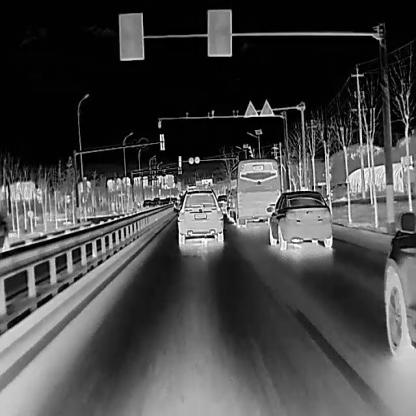bus: (228, 158, 280, 226)
car: (384, 212, 416, 357), (265, 188, 332, 250), (176, 187, 223, 254), (218, 192, 230, 214), (141, 198, 152, 214), (152, 195, 160, 211)
